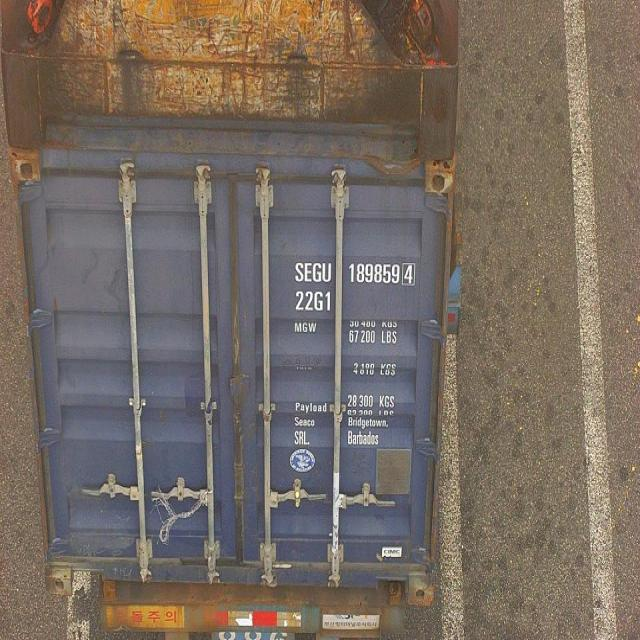ISO: (295, 286, 333, 312)
container_number: (292, 256, 418, 290)
